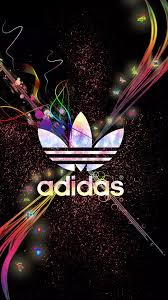adidas: (37, 113, 126, 195)
